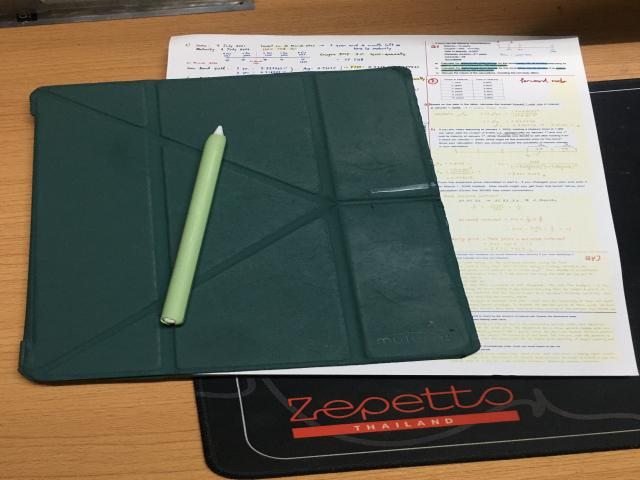paper: (151, 35, 635, 375)
